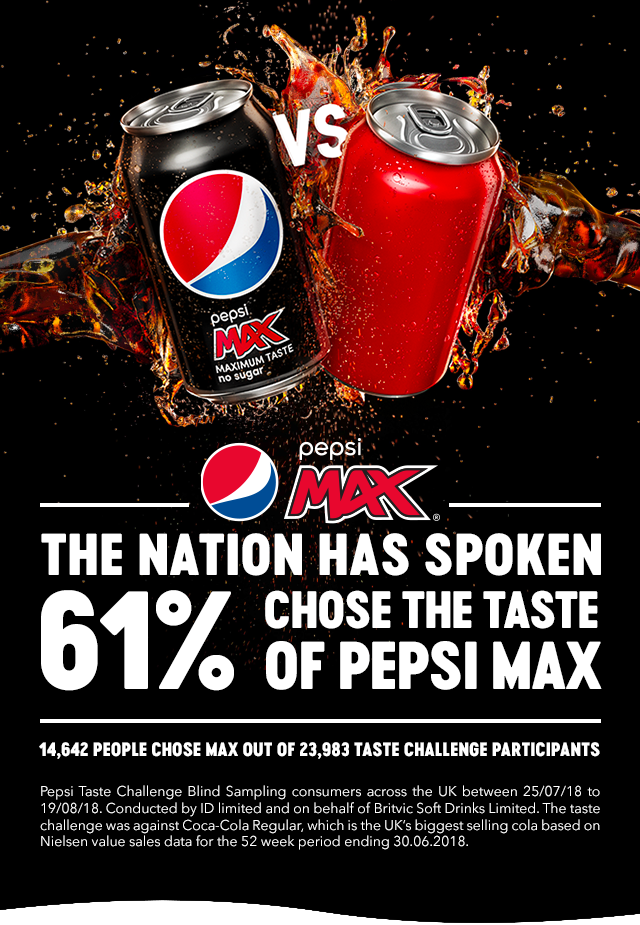pepsi: (153, 168, 282, 297), (157, 169, 282, 297), (198, 444, 277, 518)
